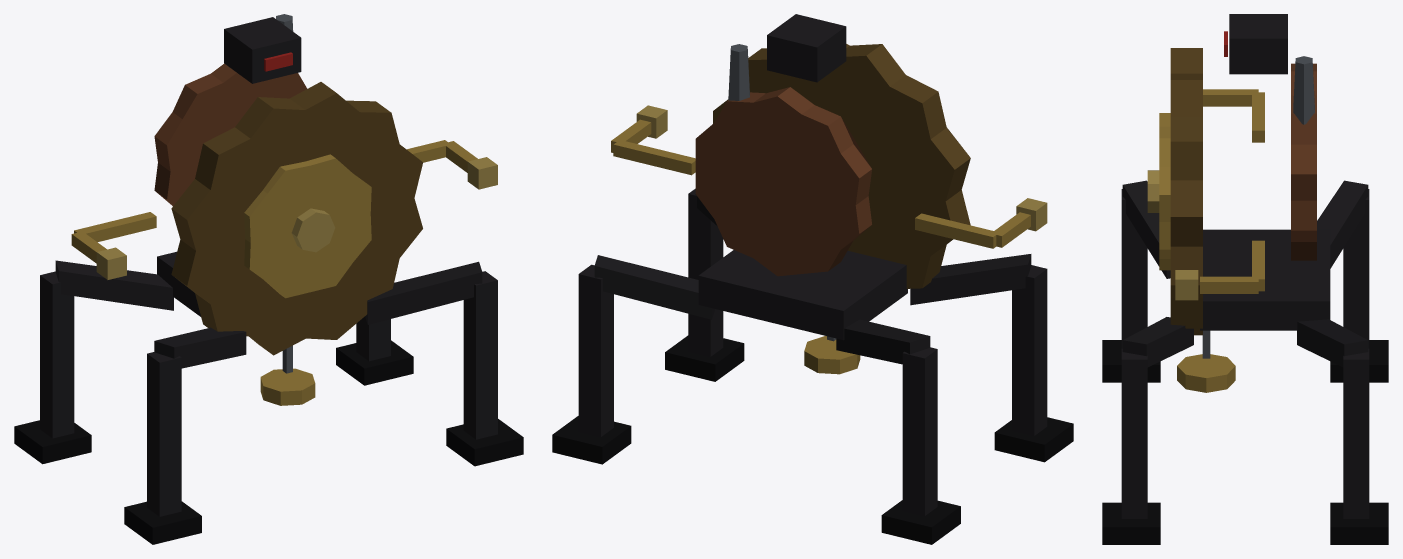
File: ClockmakerAutomaton_uv.glb
The picture shows the model from 3 angles, left to right: view 1: azimuth 30°, elevation 25°; view 2: azimuth 150°, elevation 25°; view 3: azimuth 270°, elevation 25°; orthographic projection. The views are drawn at different scales.
Visible parts, largest first — view 1: ClockmakerAutomaton; view 2: ClockmakerAutomaton; view 3: ClockmakerAutomaton.
Boxes of the visible parts, bbox=[...] form: ClockmakerAutomaton: bbox=[14, 14, 523, 544]; ClockmakerAutomaton: bbox=[552, 14, 1073, 544]; ClockmakerAutomaton: bbox=[1102, 14, 1388, 544].
Size of the model in its own units: 7.15 by 7.2 by 4.4.
1 material, 1 textured.
